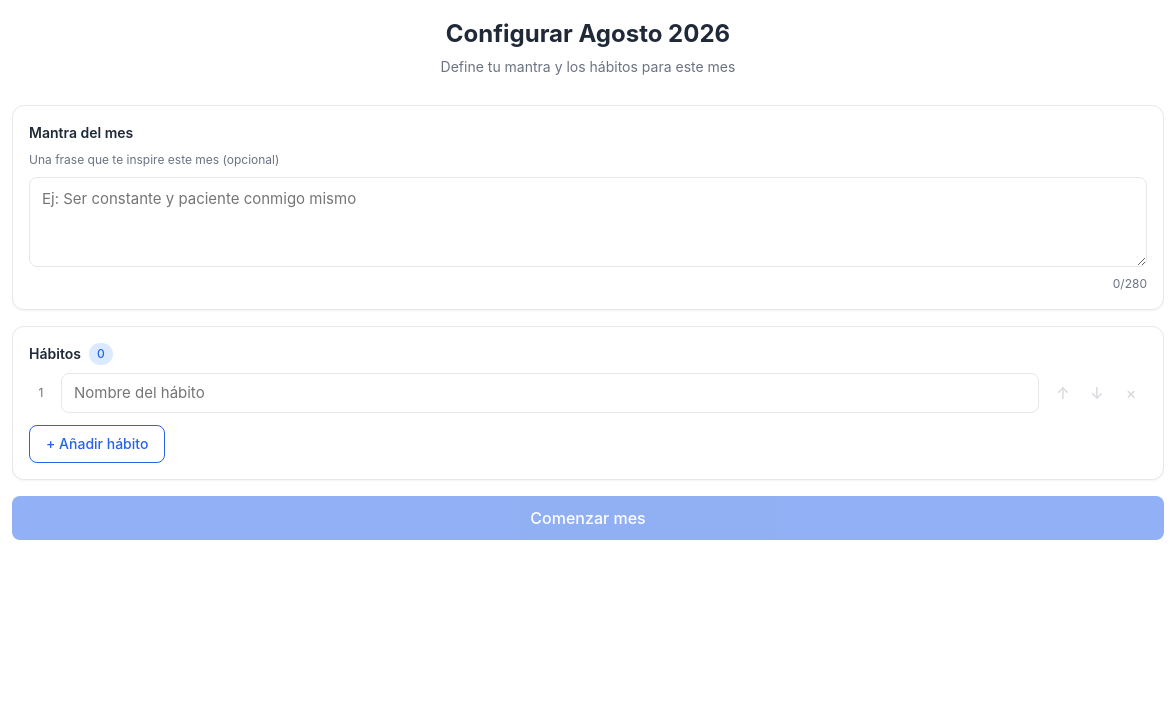
Test: MonthSetup autocomplete › selects a habit from the dropdown when an option is chosen
The image size is (1176, 720).
Focus the dropdown with placeholder "Nombre del hábito" at (550, 393), box left=61, top=372, right=1039, bottom=413
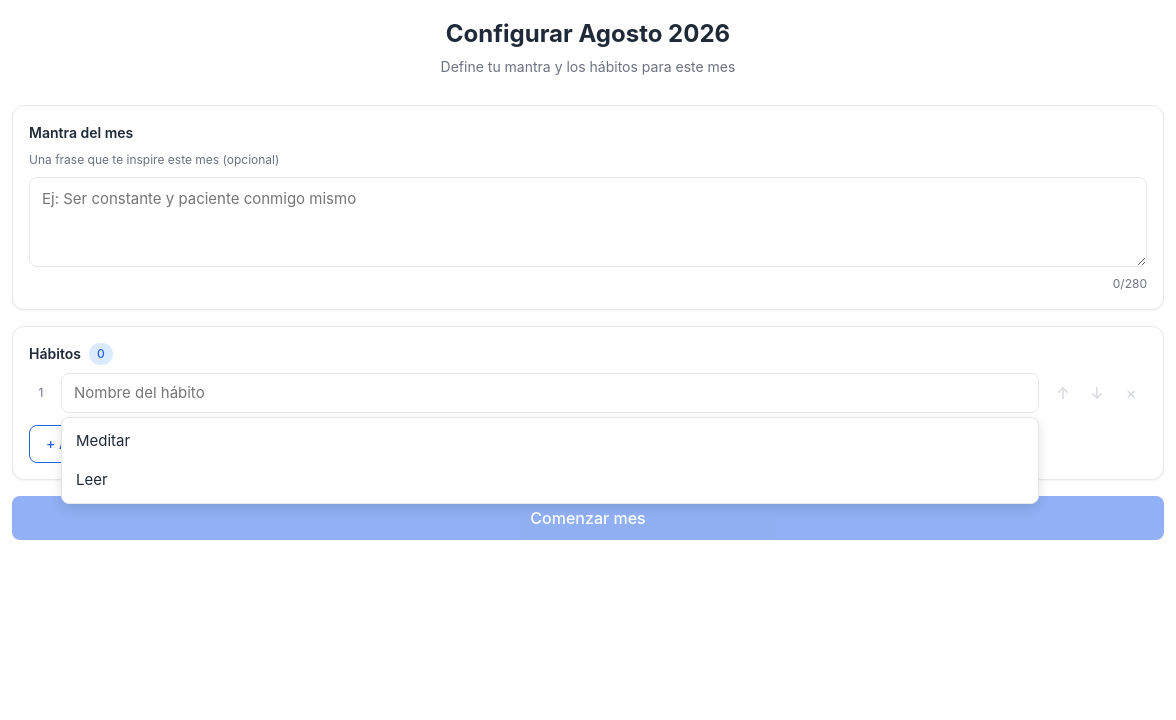
Press the mouse on the option with class "dropdown-option" showing "Leer" at (92, 479), box left=66, top=460, right=1034, bottom=499
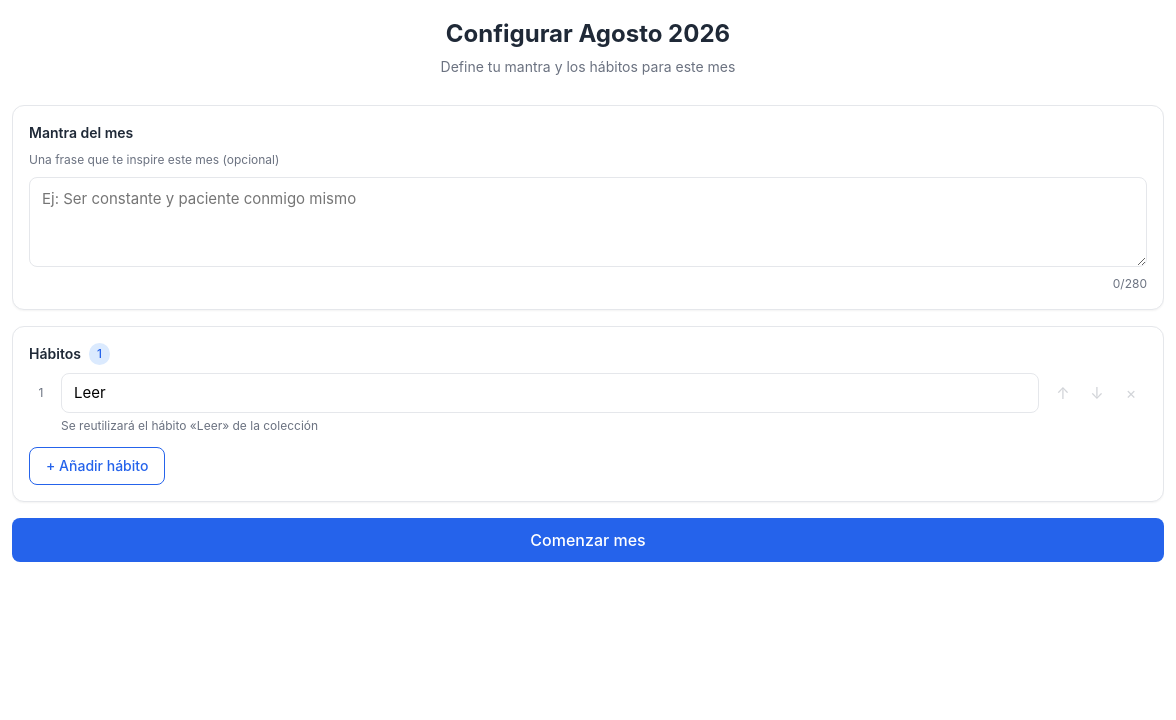
Expected: the dropdown with placeholder "Nombre del hábito" holds "Leer", left=61, top=372, right=1039, bottom=413
Expected: the text "Se reutilizará el hábito «Leer» de la colección" is shown, left=61, top=418, right=318, bottom=433
